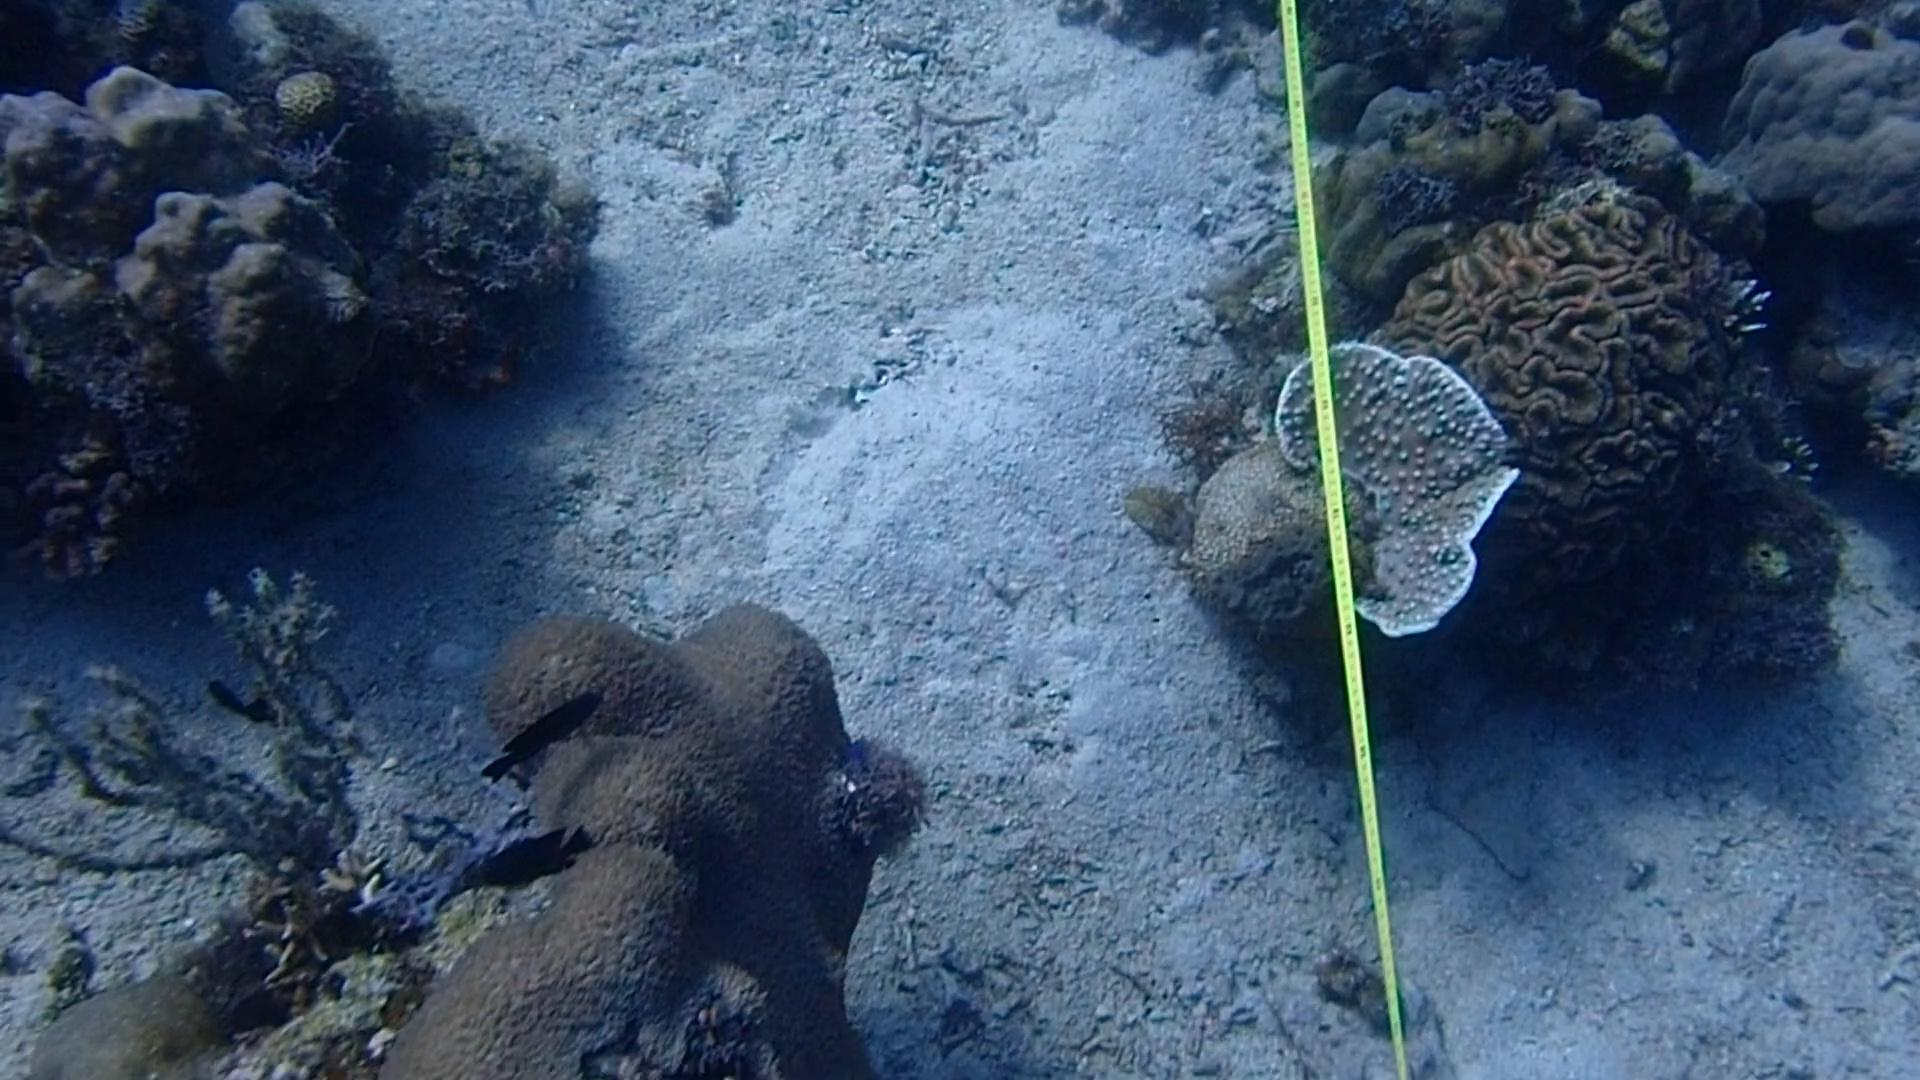Dark Fish: (468, 680, 605, 785), (467, 815, 588, 894), (190, 666, 284, 738)
